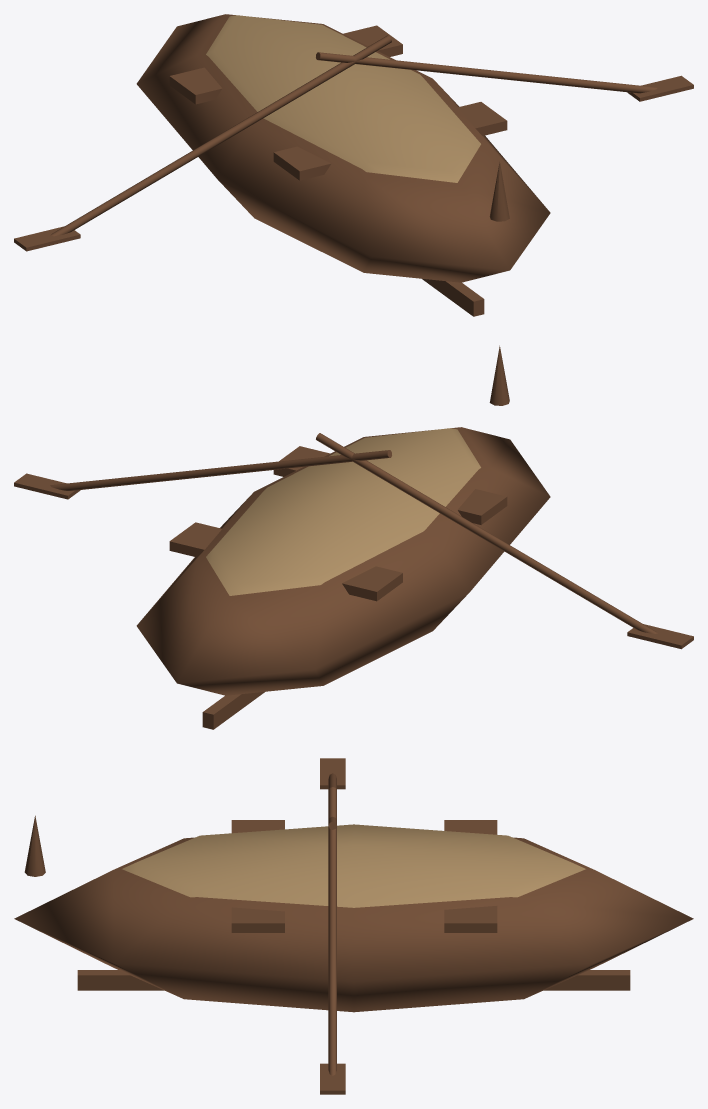
File: rowing-boat-lod1.glb
3 renders of one model, top to bottom at view 1: azimuth 30°, elevation 25°; view 2: azimuth 150°, elevation 25°; view 3: azimuth 270°, elevation 25°, orthographic. The views are drawn at different scales.
Parts seen in each view (by area): view 1: hull, hull-inner, oar (×2), thwart (×2), oar-blade (×2), keel, bow-post; view 2: hull, hull-inner, oar (×2), thwart (×2), oar-blade (×2), keel, bow-post; view 3: hull, hull-inner, thwart (×2), keel, oar, oar-blade (×2), bow-post.
Part boxes in pixels (bbox=[...]): hull: bbox=[136, 14, 550, 282]; hull-inner: bbox=[206, 15, 480, 182]; oar (×2): bbox=[50, 35, 657, 236]; thwart (×2): bbox=[169, 25, 507, 180]; oar-blade (×2): bbox=[14, 75, 693, 251]; keel: bbox=[422, 279, 484, 316]; bow-post: bbox=[489, 161, 509, 221]; hull: bbox=[136, 427, 550, 695]; hull-inner: bbox=[206, 428, 480, 595]; oar (×2): bbox=[50, 433, 657, 633]; thwart (×2): bbox=[169, 446, 507, 601]; oar-blade (×2): bbox=[14, 473, 693, 649]; keel: bbox=[202, 691, 265, 729]; bow-post: bbox=[489, 345, 509, 405]; hull: bbox=[14, 837, 693, 1012]; hull-inner: bbox=[122, 824, 585, 907]; thwart (×2): bbox=[231, 820, 497, 932]; keel: bbox=[77, 970, 630, 990]; oar: bbox=[328, 787, 336, 1075]; oar-blade (×2): bbox=[320, 758, 345, 1094]; bow-post: bbox=[24, 815, 45, 876].
Size of the model in its own units: 3.7 by 0.9543 by 3.2.
